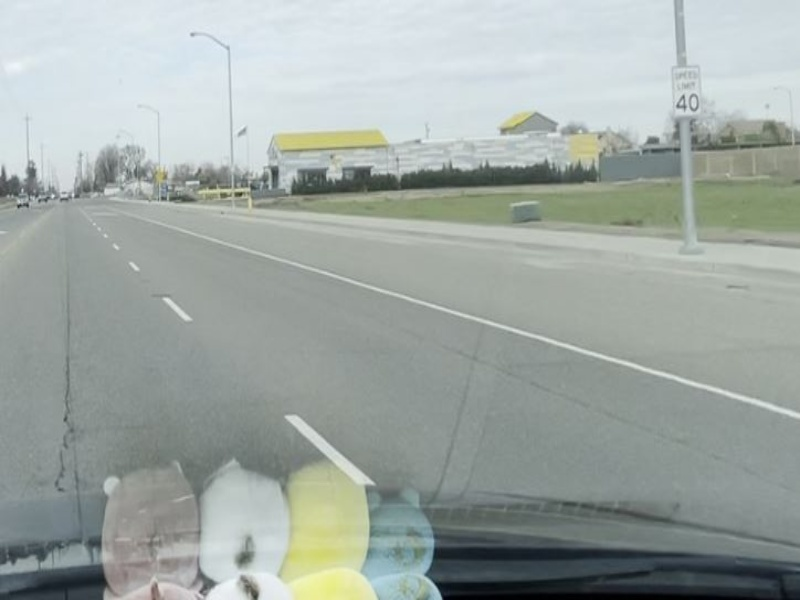speed limit sign: (667, 64, 706, 120)
